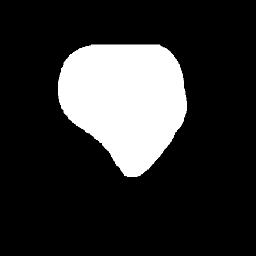mass: (58, 42, 191, 153)
